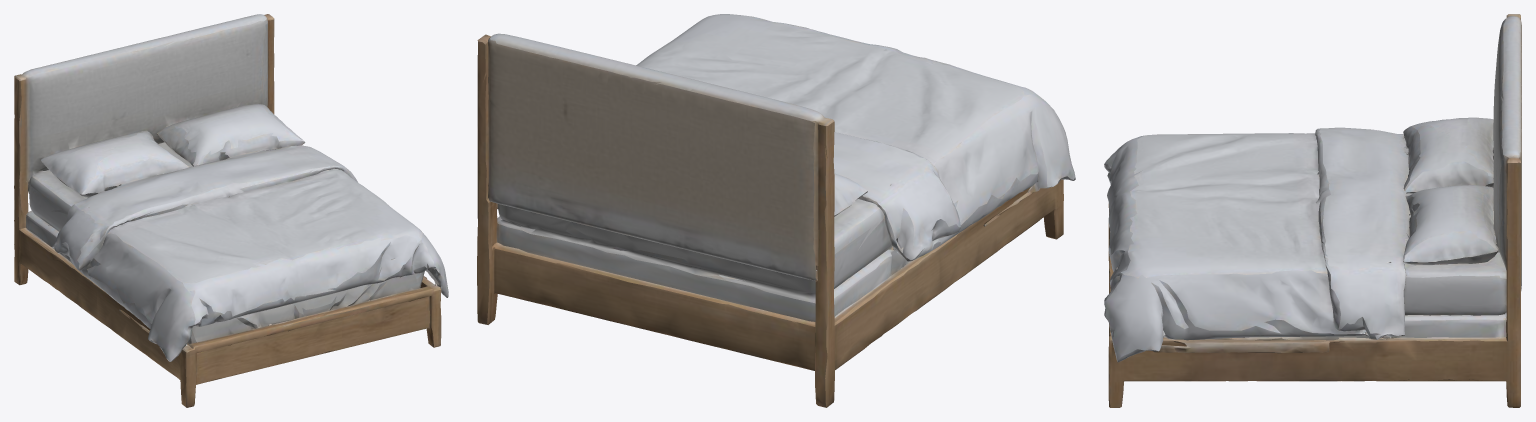
The model's file is L_BED_DOUBLE.glb.
3 renders of one model, left to right at view 1: azimuth 30°, elevation 25°; view 2: azimuth 150°, elevation 25°; view 3: azimuth 270°, elevation 25°, orthographic. The views are drawn at different scales.
Parts seen in each view (by area): view 1: world; view 2: world; view 3: world.
Boxes of the visible parts, x1,y1,x2,y2 form: world: (14, 14, 448, 407); world: (477, 14, 1075, 407); world: (1104, 14, 1521, 407).
Size of the model in its own units: 2.15 by 1.49 by 2.25.
1 material, 1 textured.
